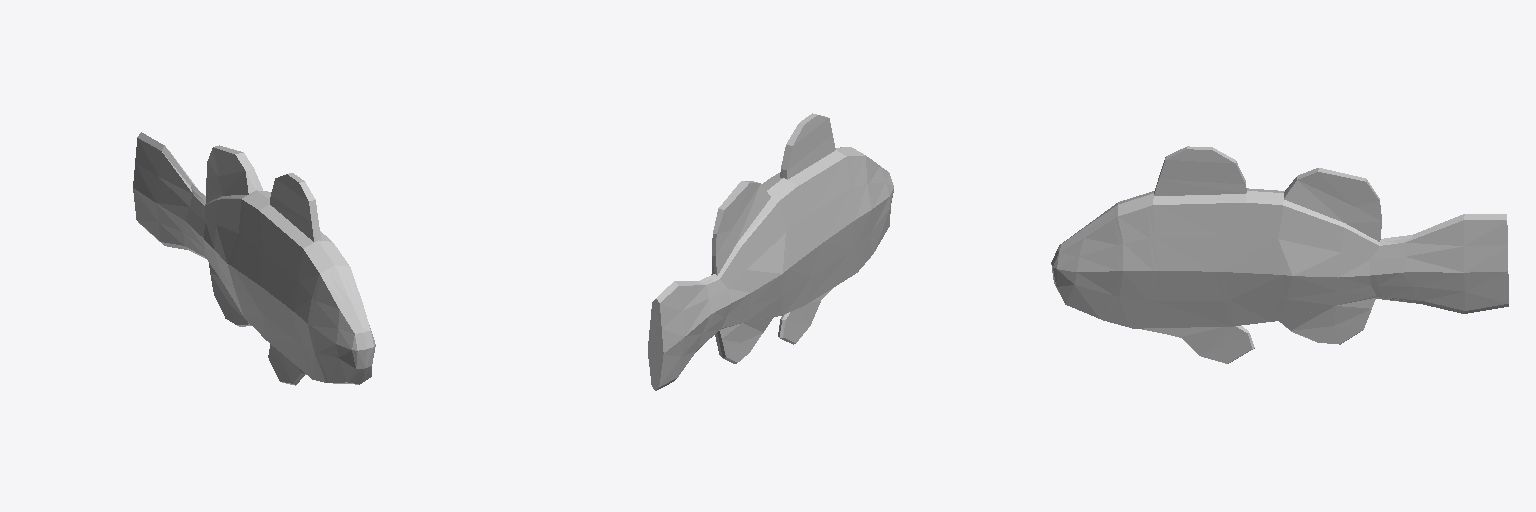
The model's file is ClownFish.obj.
The picture shows the model from 3 angles: view 1: azimuth 30°, elevation 25°; view 2: azimuth 150°, elevation 25°; view 3: azimuth 270°, elevation 25°; orthographic projection.
Parts seen in each view (by area): view 1: ClownFish_Cube.001; view 2: ClownFish_Cube.001; view 3: ClownFish_Cube.001.
Boxes of the visible parts, x1=… form: ClownFish_Cube.001: x1=133, y1=132, x2=375, y2=385; ClownFish_Cube.001: x1=648, y1=113, x2=893, y2=390; ClownFish_Cube.001: x1=1051, y1=146, x2=1508, y2=363.
Size of the model in its own units: 1.04 by 4.09 by 7.85.